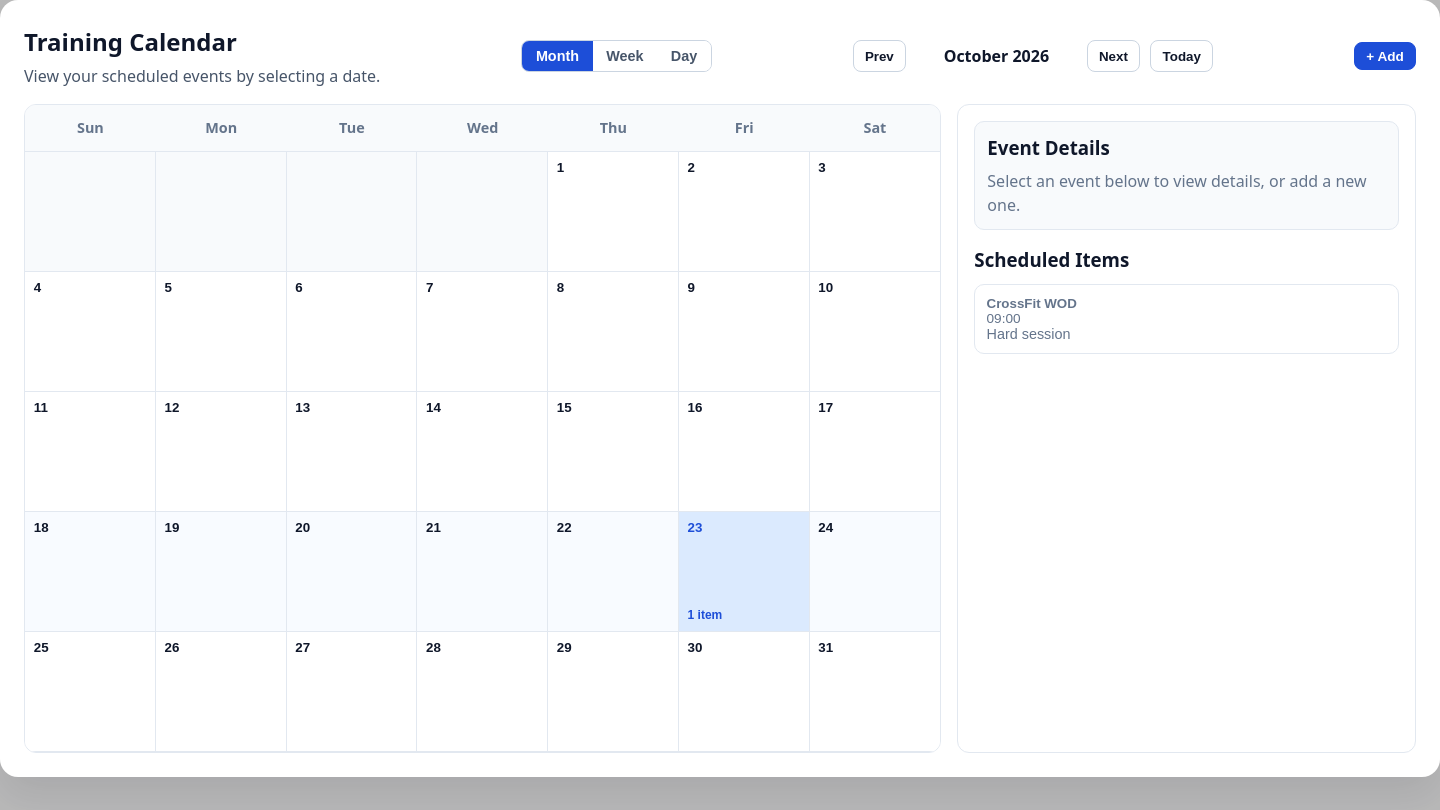
Calendar Component › shows entry details when an entry is selected
The width and height of the screenshot is (1440, 810).
Click the button "CrossFit WOD 09:00 Hard session".
click(1032, 304)  # box [974,284,1399,354]
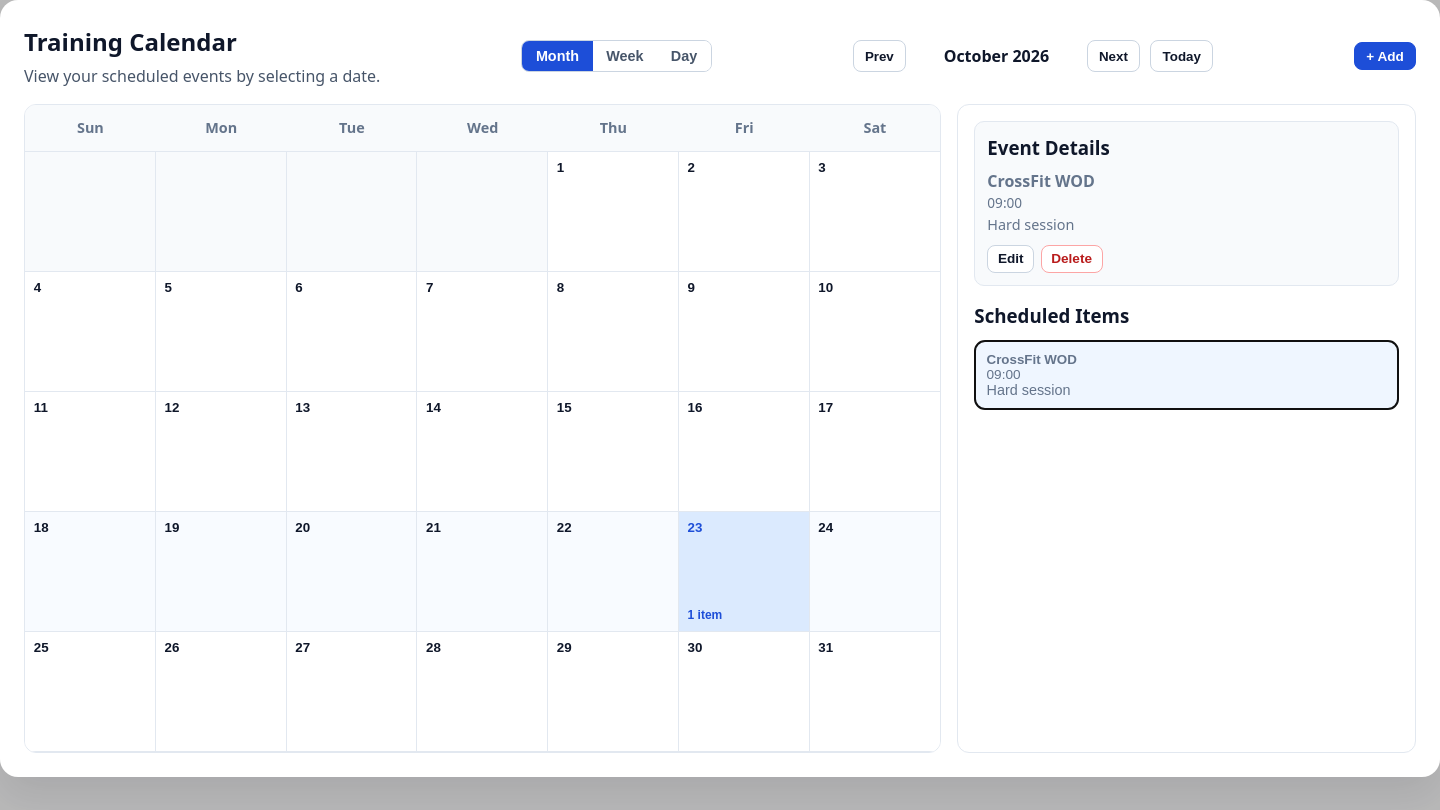
Result: the text "CrossFit WOD" below "Event Details" is shown at [987,170,1095,192]
Result: the text "09:00" below "Event Details" is shown at [987,193,1022,212]
Result: the text "Hard session" below "Event Details" is shown at [987,215,1074,234]
